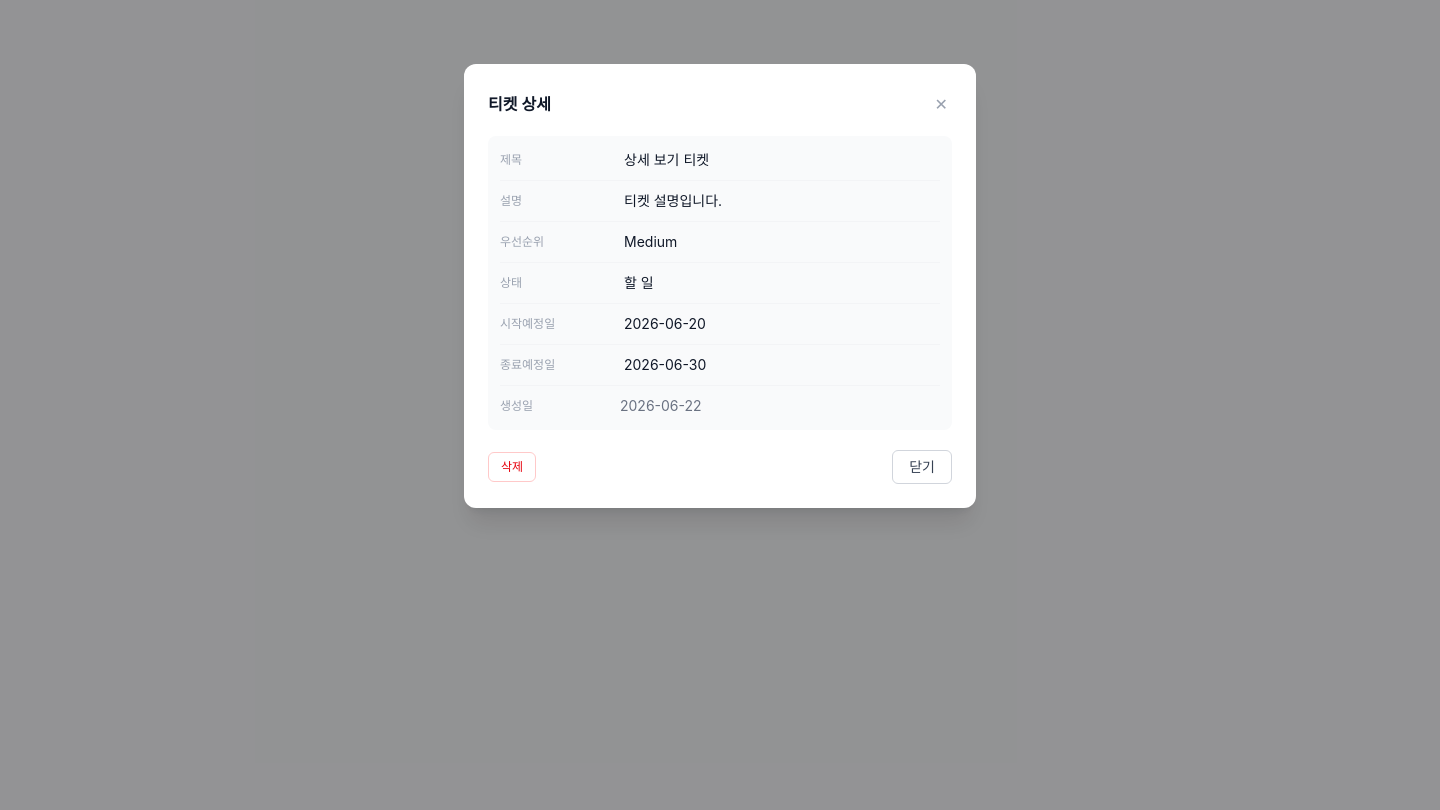
Test: DetailModal — 인라인 편집 › 편집 중 ESC → 편집 모드 취소, 원래 값 복원
Click the text "상세 보기 티켓" at [667, 160], box x1=620 y1=149 x2=713 y2=170
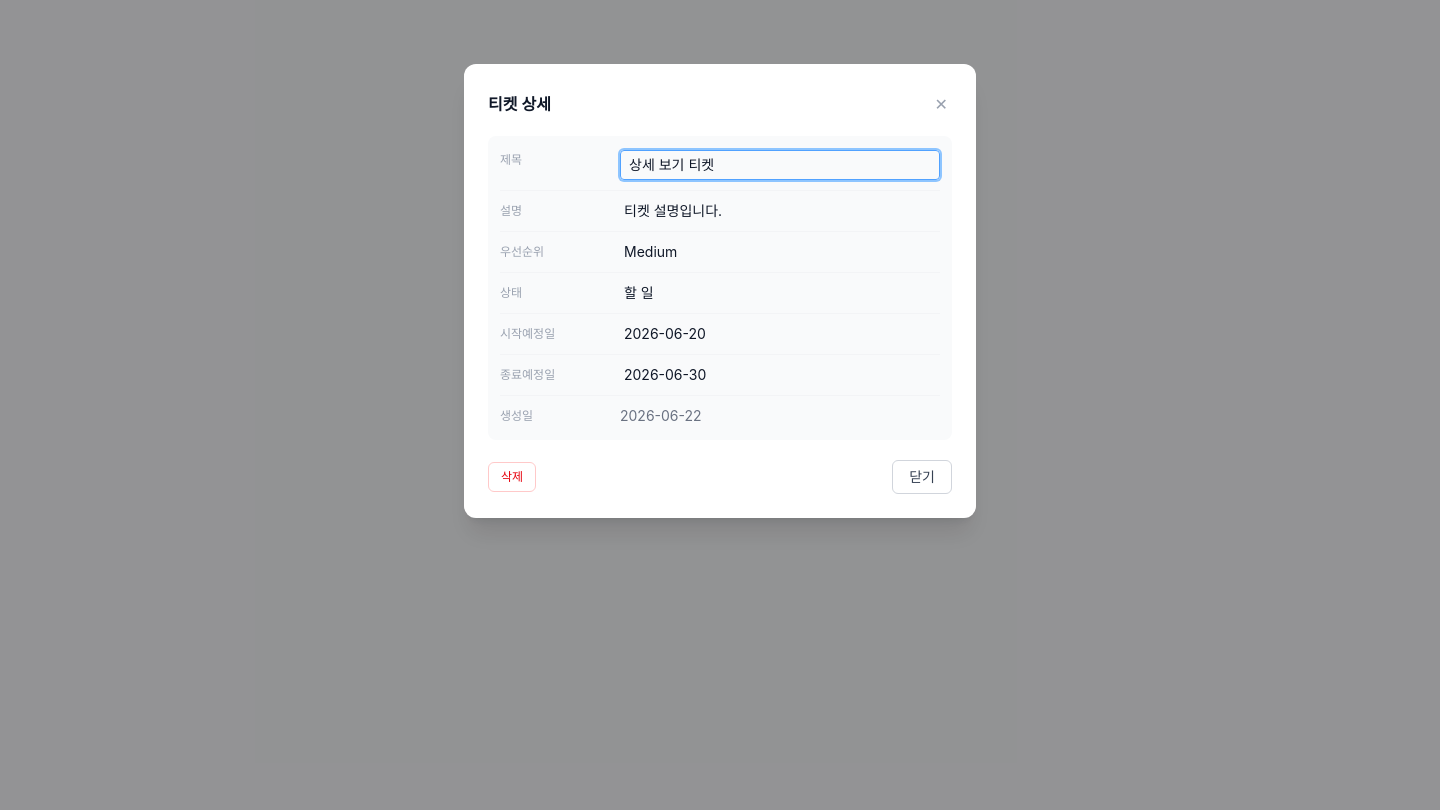
Expected: the field showing "상세 보기 티켓" is shown, x1=620 y1=150 x2=940 y2=180
Press Escape
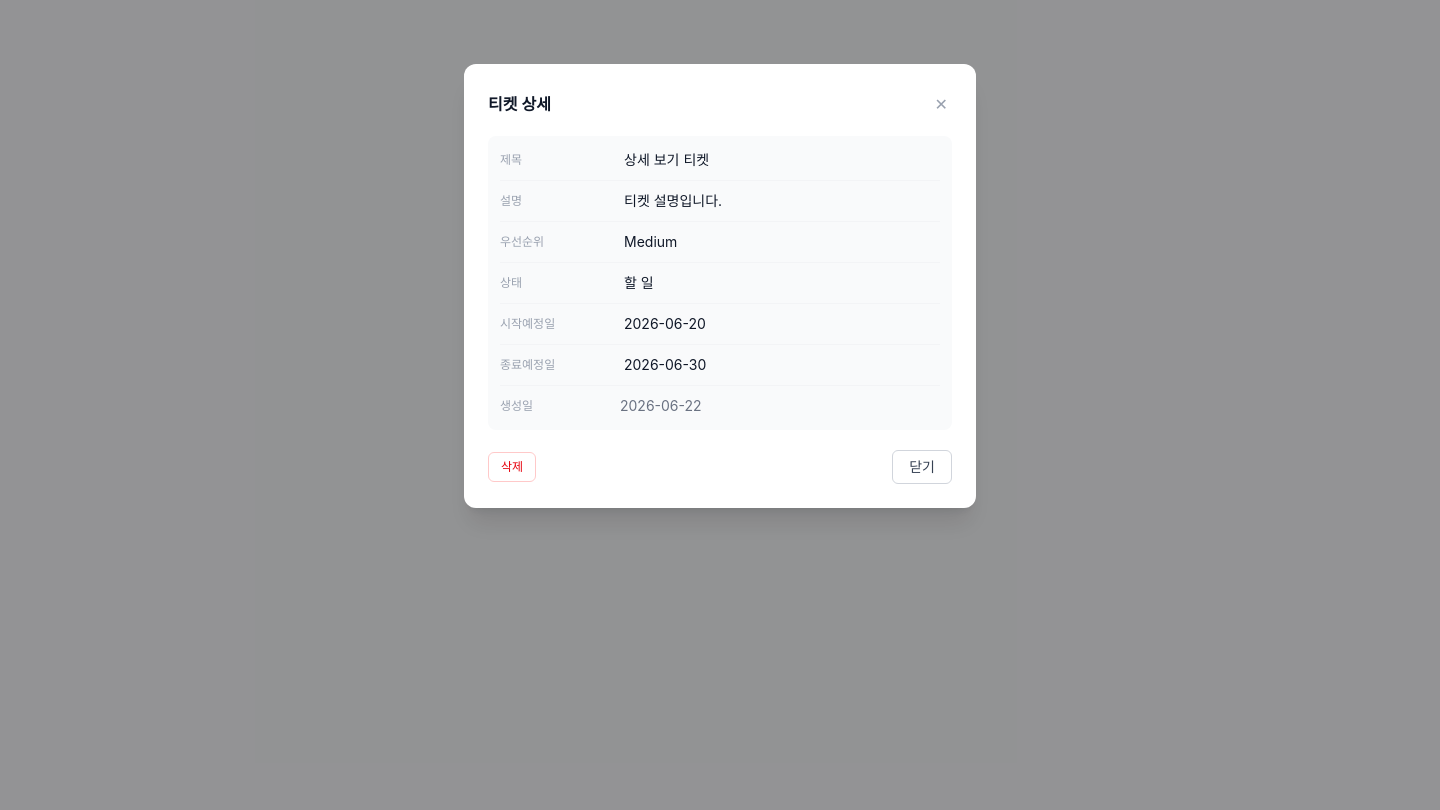
Expected: the text "상세 보기 티켓" is shown, x1=620 y1=149 x2=713 y2=170
